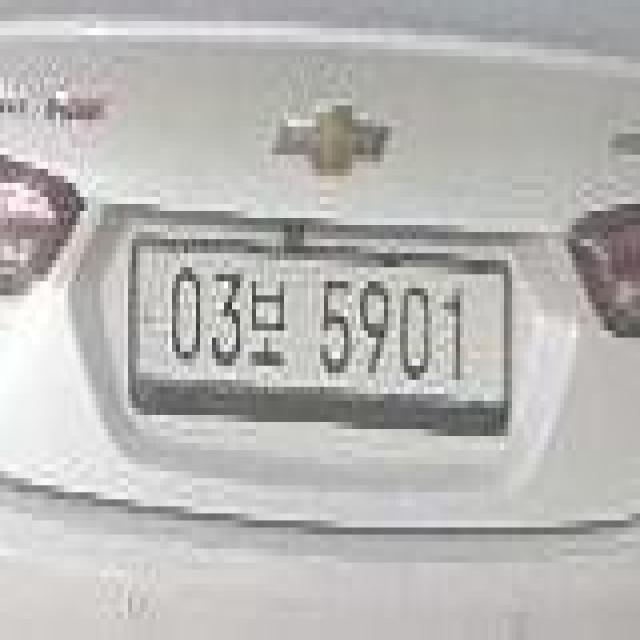illegal_plate: (127, 224, 517, 439)
